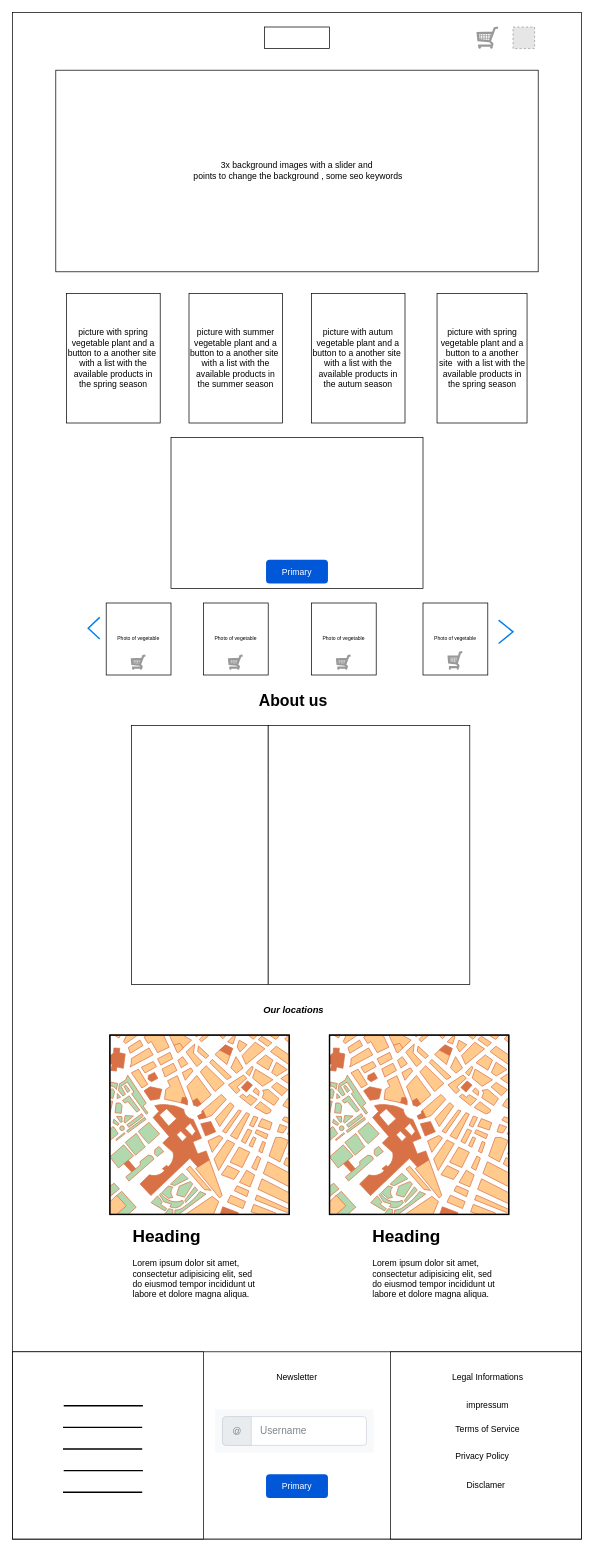
Some shapes in this 594 by 1552 pixel diagram are drawn without their labels. Grey dashed boxes stand in for pictures. The box of each missing label's shape, as (x1, y1, x2, y2) in pixels:
contact form send with php: (170, 437, 423, 589)
Image of fresh herbs: (131, 725, 268, 985)
LOGO: (264, 26, 329, 49)
navigation links: (12, 1351, 203, 1539)
Text with Seo Keywords.: (267, 725, 470, 985)
